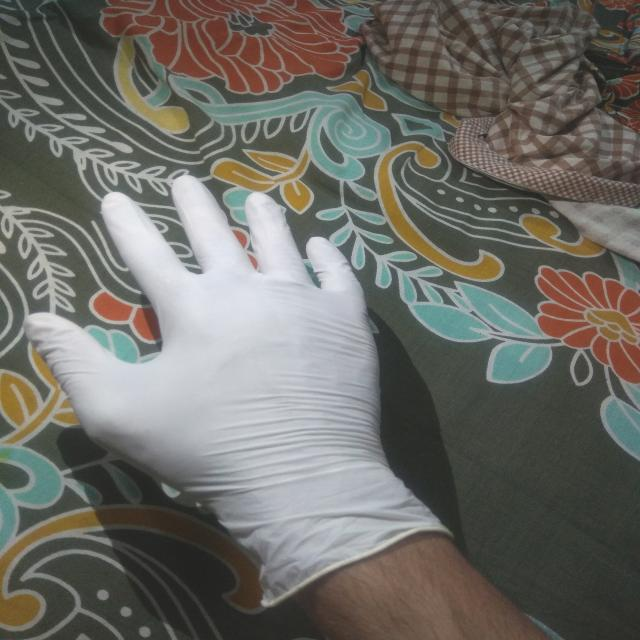glove: (23, 172, 457, 610)
